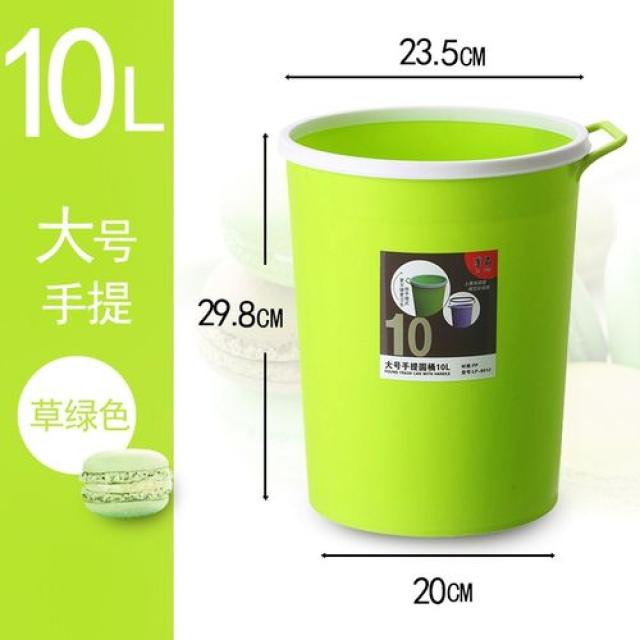dustbin: (272, 100, 636, 544)
